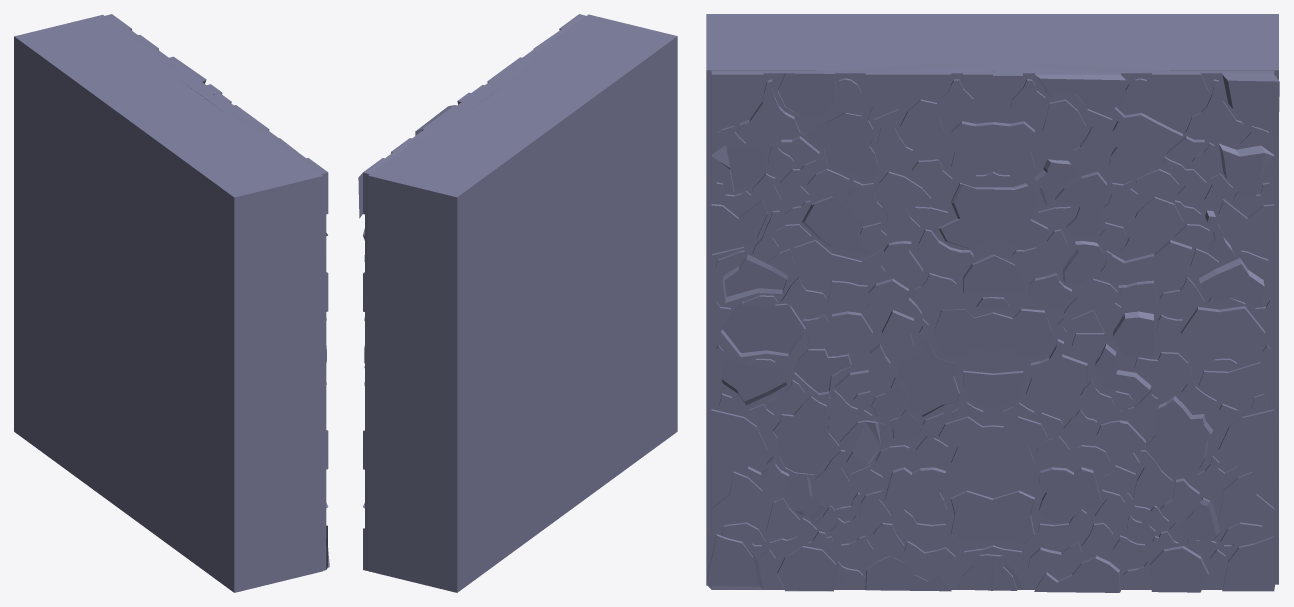
The picture shows the model from 3 angles, left to right: view 1: azimuth 30°, elevation 25°; view 2: azimuth 150°, elevation 25°; view 3: azimuth 270°, elevation 25°; orthographic projection. The views are drawn at different scales.
Parts seen in each view (by area): view 1: BASE, Cube.001; view 2: BASE, Cube.001; view 3: Cube.001, BASE.
Boxes of the visible parts, x1,y1,x2,y2 form: BASE: (14,14,323,592); Cube.001: (105,14,329,570); BASE: (368,14,677,592); Cube.001: (358,14,585,570); Cube.001: (706,64,1279,592); BASE: (706,14,1278,584).
Bounding box in the file's own units: 31.43 × 117 × 118.
